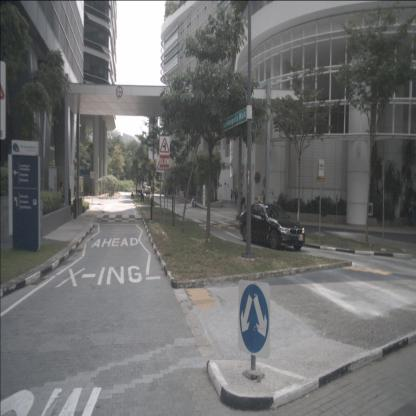human-pedestrian-adult: (66, 183, 72, 216), (60, 181, 66, 213), (140, 186, 145, 202), (130, 186, 134, 200), (234, 188, 237, 204), (230, 189, 233, 204)
vehicle-car: (240, 200, 305, 251), (145, 186, 151, 196)
vehicle-motorcycle: (192, 195, 196, 209)
